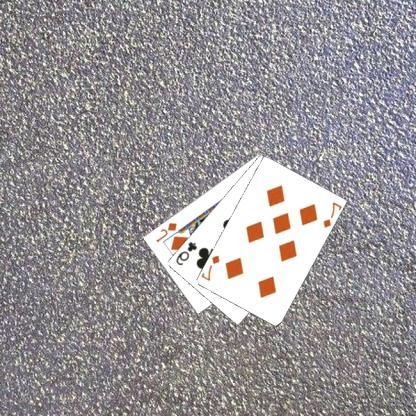6C: (174, 239, 200, 267)
7D: (201, 252, 223, 282), (322, 199, 344, 229)
JD: (154, 219, 180, 244)
